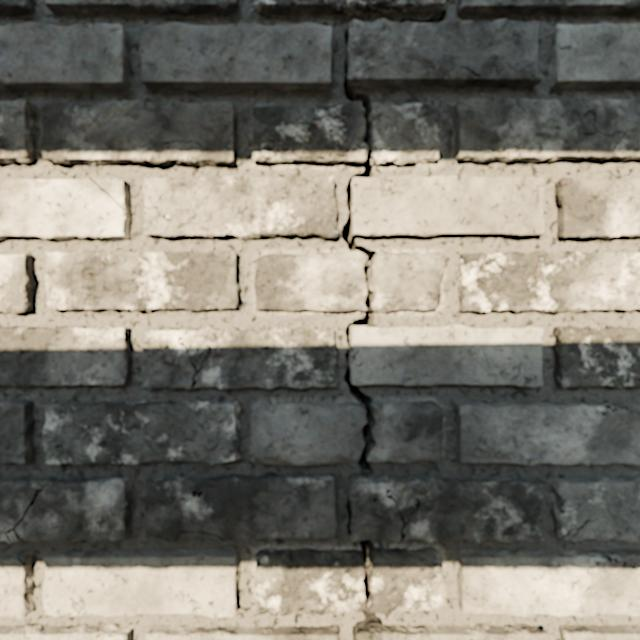broken_brick: (254, 548, 365, 617), (253, 402, 366, 465), (253, 101, 366, 164), (254, 251, 366, 312), (370, 547, 445, 614), (372, 250, 445, 312), (369, 401, 443, 462), (370, 103, 441, 165)
crack: (254, 0, 548, 639), (42, 549, 240, 618), (140, 22, 332, 91), (41, 100, 238, 167), (145, 473, 338, 541), (42, 400, 240, 465), (457, 548, 639, 618), (142, 175, 338, 239), (453, 98, 639, 164), (44, 250, 240, 312), (142, 327, 336, 389), (455, 401, 639, 466), (458, 250, 639, 312), (0, 22, 130, 92), (0, 476, 131, 543), (0, 177, 129, 240), (0, 326, 131, 387), (547, 23, 639, 89), (551, 476, 639, 542), (552, 326, 639, 388), (554, 175, 639, 238), (456, 0, 639, 17), (45, 0, 237, 16), (146, 624, 339, 639), (0, 551, 35, 619), (0, 99, 36, 163), (0, 400, 34, 464), (0, 623, 133, 639), (0, 254, 35, 314), (558, 624, 639, 639), (0, 0, 34, 16), (412, 459, 435, 460)
